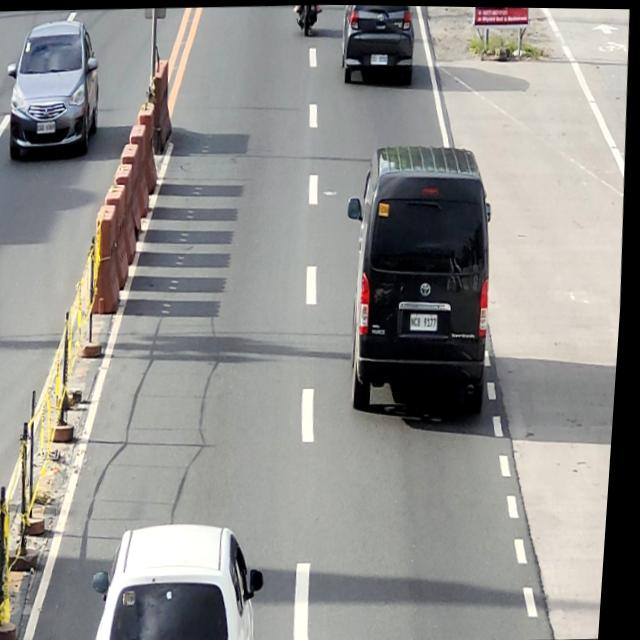Car: (337, 141, 505, 421), (94, 516, 277, 640), (2, 18, 106, 162), (339, 4, 417, 87)
License-Plate: (413, 312, 443, 330), (371, 51, 389, 65), (37, 121, 58, 133)
